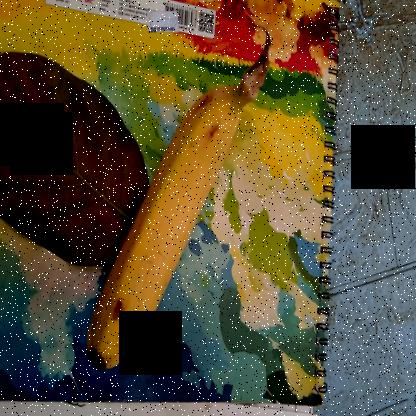ripe: (82, 85, 244, 379)
